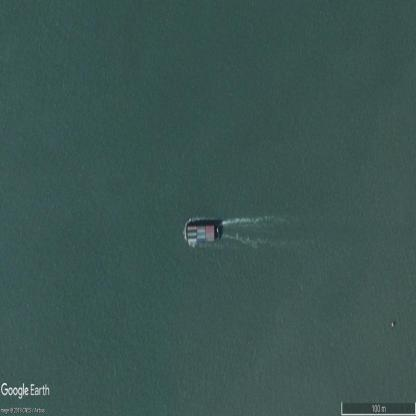ship: (186, 218, 222, 244)
